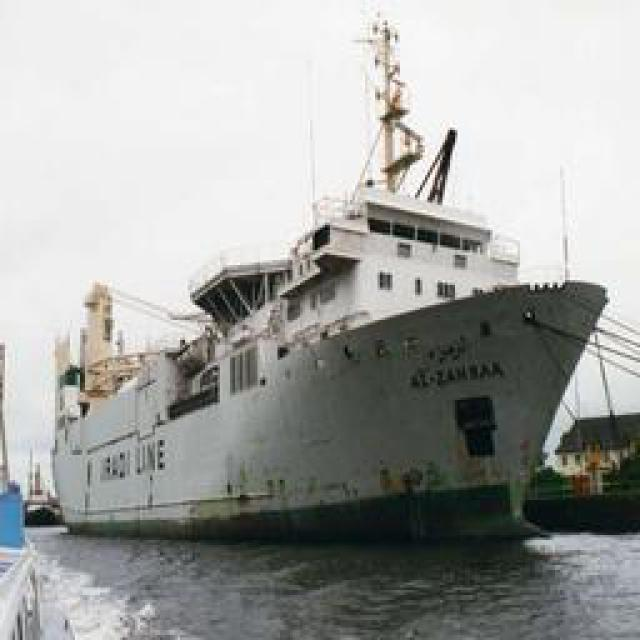Ship: (41, 11, 616, 542)
